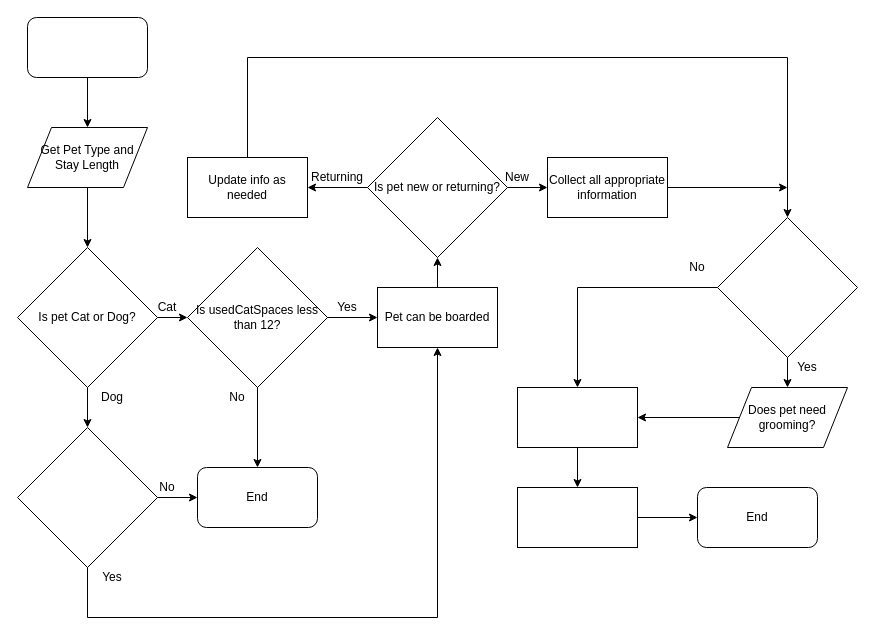
The diagram is 875 pixels wide and 643 high, and some of its shapes have lost their labels. The box of each missing label's shape, as (x1, y1, x2, y2) in pixels:
Assign pet to a space: (516, 386, 638, 448)
Is pet dog and staying two or more days?: (716, 216, 858, 358)
Is usedDogSpaces less than 30?: (16, 426, 158, 568)
Start: (26, 16, 148, 78)
Update cat or dog spaces used: (516, 486, 638, 548)
